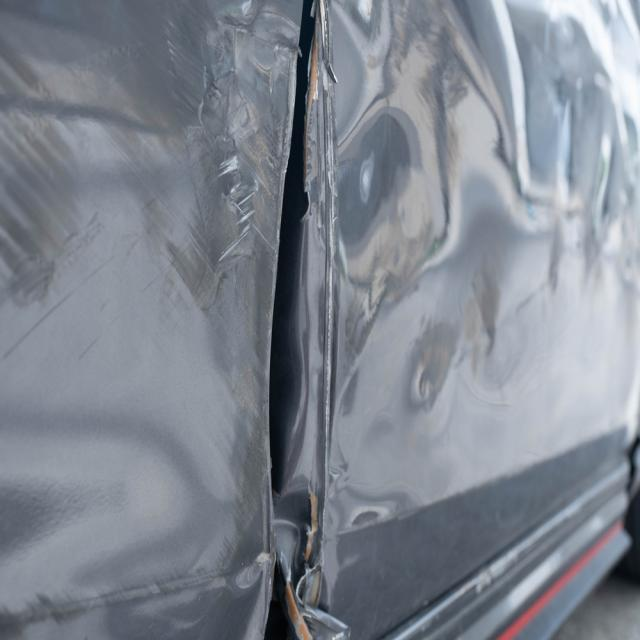Cabossage: (0, 294, 219, 640)
Dechirure: (264, 1, 334, 640)
Rayure: (160, 0, 280, 276)
